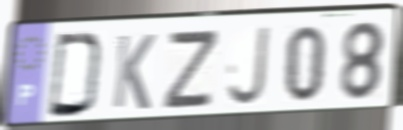0: (283, 24, 330, 105)
8: (338, 19, 386, 103)
D: (46, 31, 106, 120)
J: (224, 23, 271, 109)
K: (110, 32, 158, 112)
Z: (159, 27, 222, 112)
